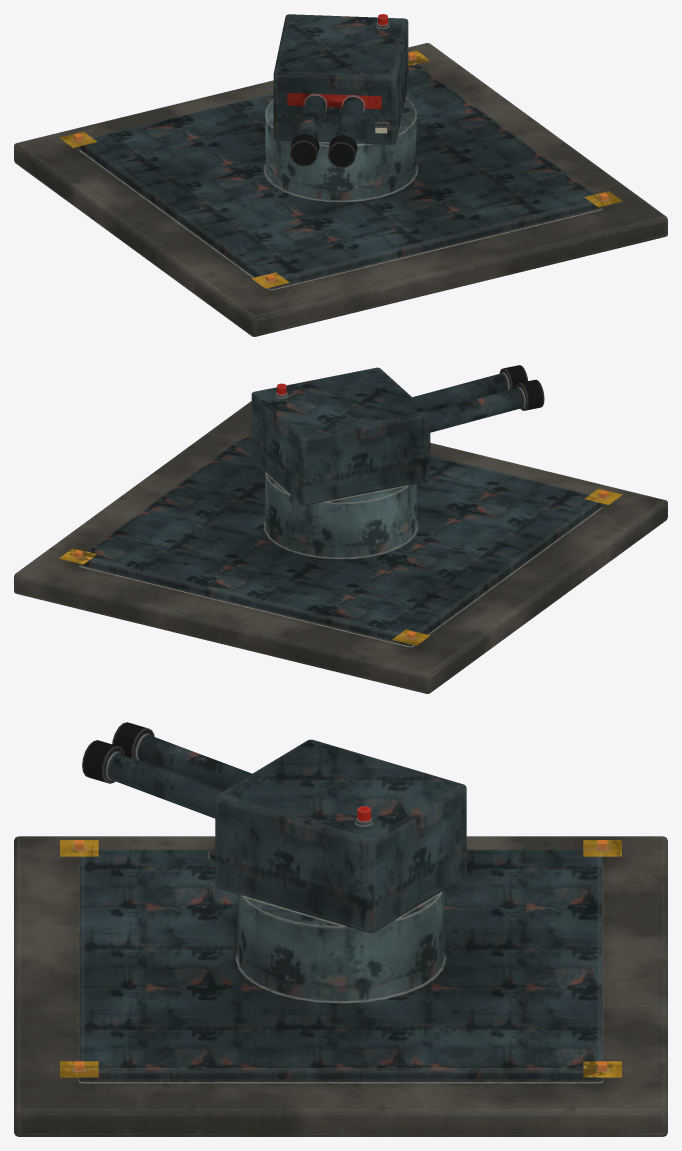
Rendered from heavy_cannon.glb.
3 views of the same model, one above another, from view 1: azimuth 30°, elevation 25°; view 2: azimuth 150°, elevation 25°; view 3: azimuth 270°, elevation 25° (orthographic). The views are drawn at different scales.
Visible parts, largest first — view 1: te_heavy_cannon; view 2: te_heavy_cannon; view 3: te_heavy_cannon.
Boxes of the visible parts, box(x1,y1,x2,y2) form: te_heavy_cannon: box(14, 14, 667, 336); te_heavy_cannon: box(14, 365, 667, 693); te_heavy_cannon: box(14, 722, 667, 1136).
Bounding box in the file's own units: 1.72 × 0.6528 × 1.72.
1 material, 1 textured.
